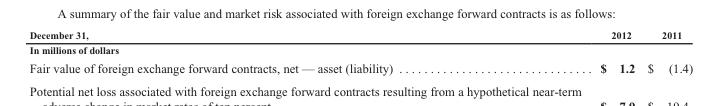table: (28, 29, 692, 75)
table column: (28, 29, 495, 75), (495, 29, 640, 75), (640, 29, 692, 75)
table column header: (28, 29, 692, 42)
table projected row header: (28, 42, 692, 58)
table row: (28, 58, 692, 75), (28, 42, 692, 58), (28, 29, 692, 42)
